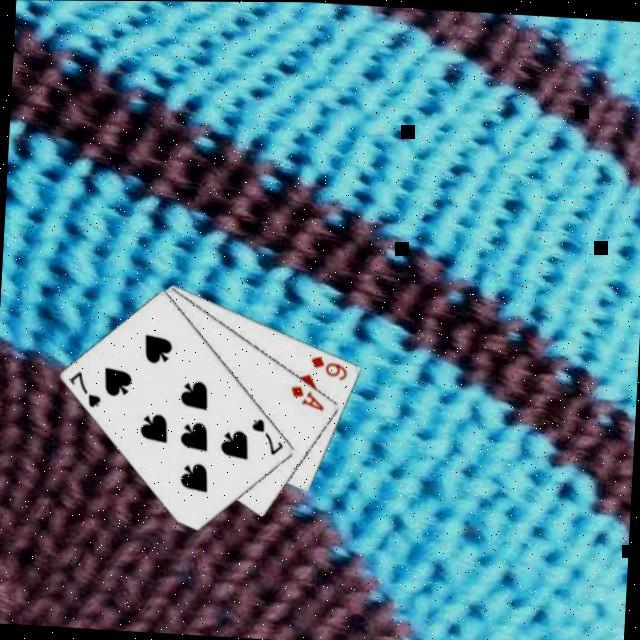6D: (309, 350, 354, 380)
7S: (68, 365, 108, 409), (250, 413, 290, 455)
AD: (289, 379, 331, 411)
